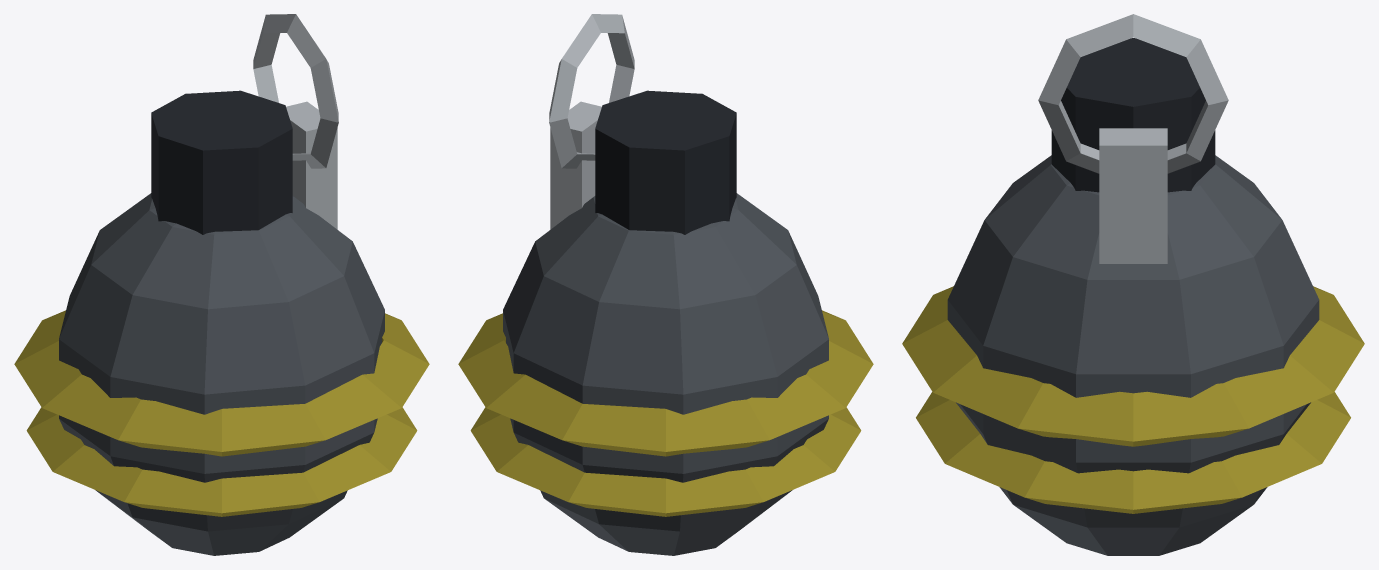
File: grenade-fragmentation.glb
3 renders of one model, left to right at view 1: azimuth 30°, elevation 25°; view 2: azimuth 150°, elevation 25°; view 3: azimuth 270°, elevation 25°, orthographic. The views are drawn at different scales.
Parts seen in each view (by area): view 1: m; view 2: m; view 3: m.
Part boxes in pixels (x1,y1,x2,y2): m: [14, 14, 429, 555]; m: [458, 14, 873, 555]; m: [902, 14, 1364, 555].
Bounding box in the file's own units: 0.059 × 0.08 × 0.059.
